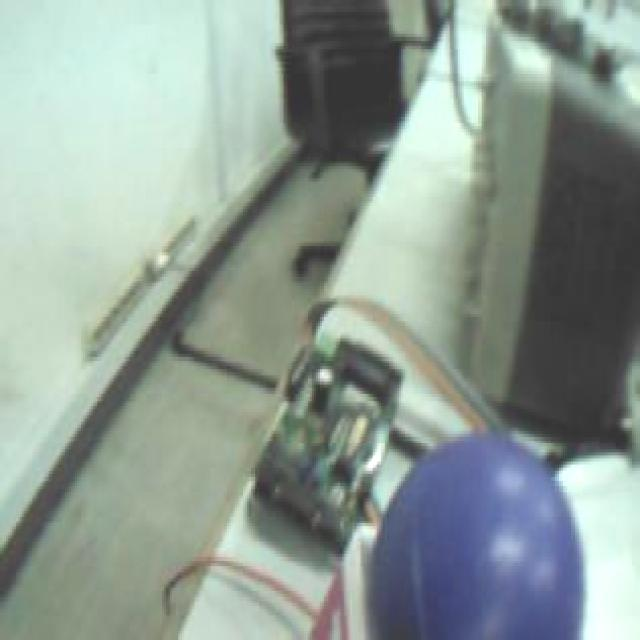BallPurple: (377, 436, 586, 640)
